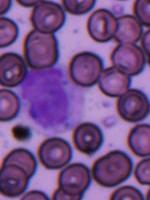M: (18, 62, 85, 136)
